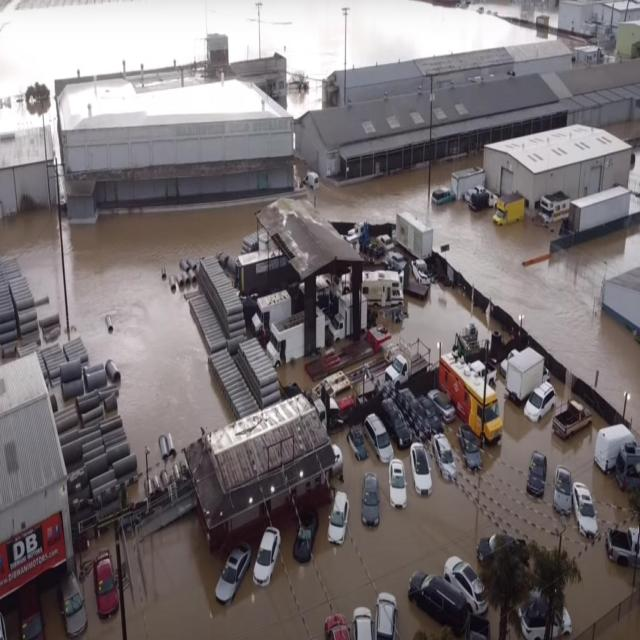flood: (122, 382, 638, 639), (318, 166, 640, 427), (62, 199, 259, 459), (0, 0, 258, 130), (260, 0, 536, 115), (0, 207, 64, 330), (400, 283, 471, 361), (277, 357, 314, 391)
house: (294, 15, 579, 192), (61, 68, 298, 220), (193, 388, 338, 546), (0, 350, 74, 606), (487, 118, 637, 206), (0, 123, 59, 229)
